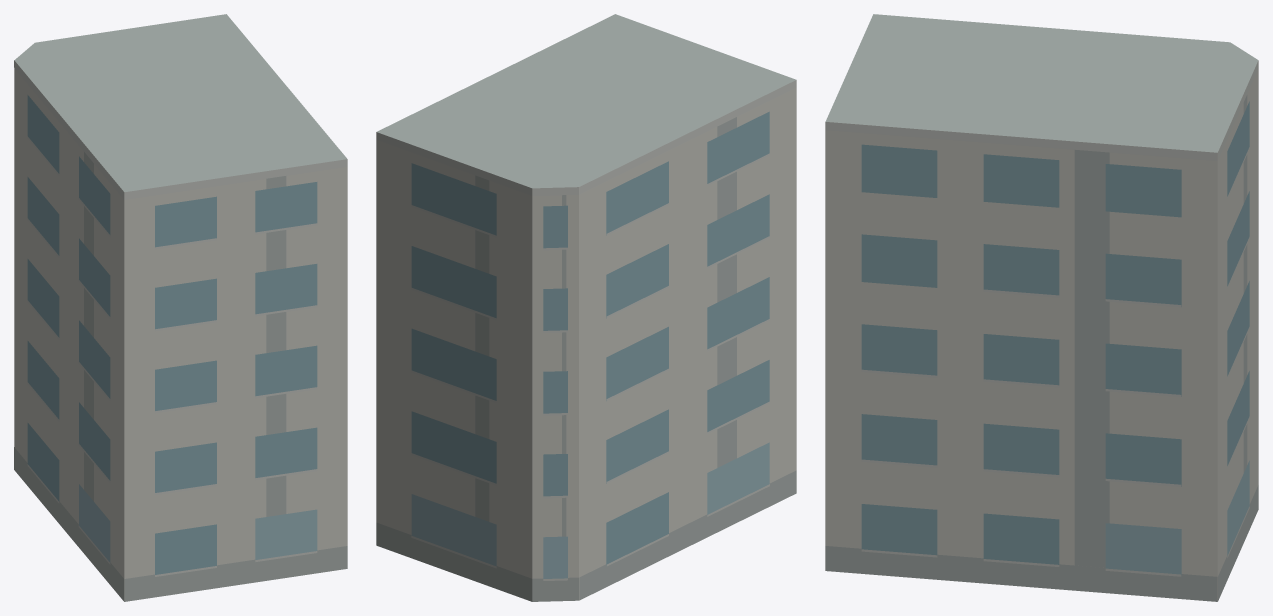
File: survey-upis-32528897.glb
3 renders of one model, left to right at view 1: azimuth 30°, elevation 25°; view 2: azimuth 150°, elevation 25°; view 3: azimuth 270°, elevation 25°, orthographic. The views are drawn at different scales.
Parts seen in each view (by area): view 1: survey-upis-32528897.tmp; view 2: survey-upis-32528897.tmp; view 3: survey-upis-32528897.tmp.
Boxes of the visible parts, x1,y1,x2,y2 form: survey-upis-32528897.tmp: [14, 14, 347, 601]; survey-upis-32528897.tmp: [376, 14, 796, 601]; survey-upis-32528897.tmp: [825, 14, 1258, 601].
Size of the model in its own units: 8.75 by 13.2 by 11.55.
